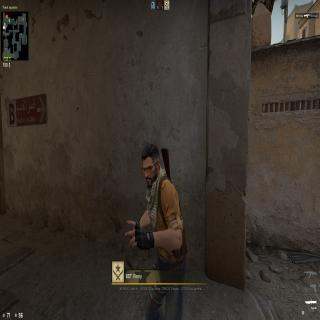T-Head: (139, 138, 161, 193)
